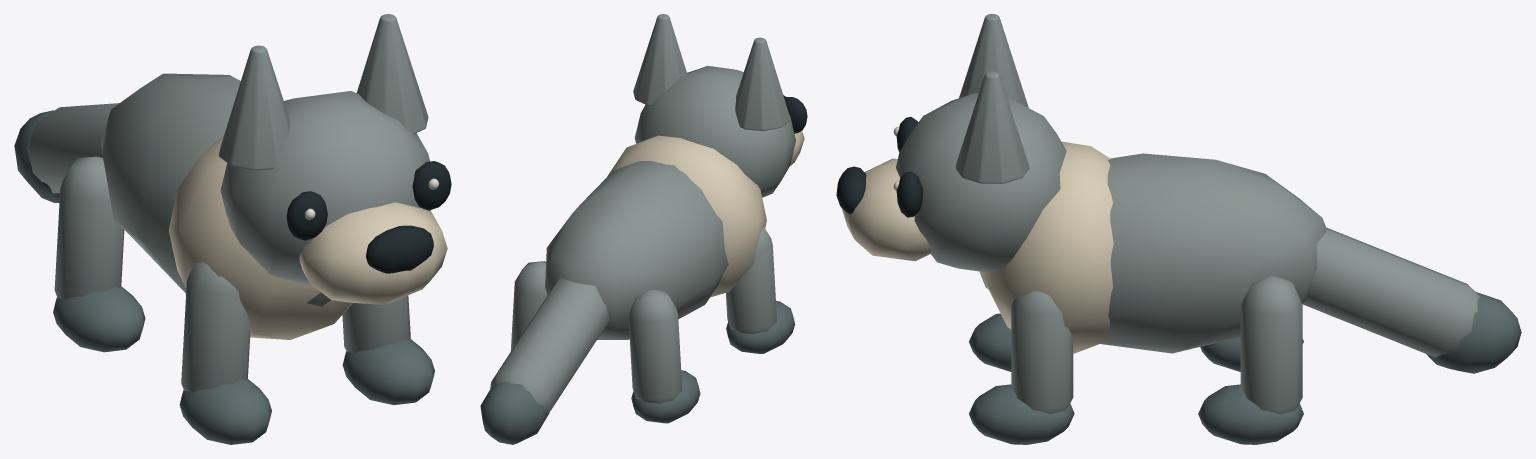
File: org_graywolf.glb
3 renders of one model, left to right at view 1: azimuth 30°, elevation 25°; view 2: azimuth 150°, elevation 25°; view 3: azimuth 270°, elevation 25°, orthographic. The views are drawn at different scales.
Parts seen in each view (by area): view 1: Head, Body, Leg_BR, Leg_FR, Leg_FL, Tail, Eye_R, Eye_L; view 2: Body, Head, Tail, Leg_BR, Leg_FR, Leg_BL, Eye_R; view 3: Body, Head, Tail, Leg_BL, Leg_FL, Leg_FR, Eye_L, Leg_BR.
Part boxes in pixels (x1,y1,x2,y2): Head: (218, 14, 447, 304); Body: (101, 73, 352, 339); Leg_BR: (53, 156, 145, 352); Leg_FR: (179, 262, 271, 444); Leg_FL: (342, 295, 434, 404); Tail: (14, 103, 119, 202); Eye_R: (286, 191, 327, 240); Eye_L: (412, 161, 451, 210); Body: (545, 135, 766, 339); Head: (633, 14, 804, 197); Tail: (480, 277, 609, 444); Leg_BR: (629, 289, 700, 423); Leg_FR: (726, 227, 795, 353); Leg_BL: (510, 261, 547, 351); Eye_R: (784, 97, 807, 133); Body: (979, 141, 1327, 353); Head: (836, 14, 1066, 272); Tail: (1302, 227, 1521, 373); Leg_BL: (1198, 276, 1303, 444); Leg_FL: (969, 291, 1074, 444); Leg_FR: (969, 313, 1011, 371); Eye_L: (893, 171, 923, 217); Leg_BR: (1200, 337, 1303, 371).
Bounding box in the file's own units: 0.6223 × 1 × 1.73.
